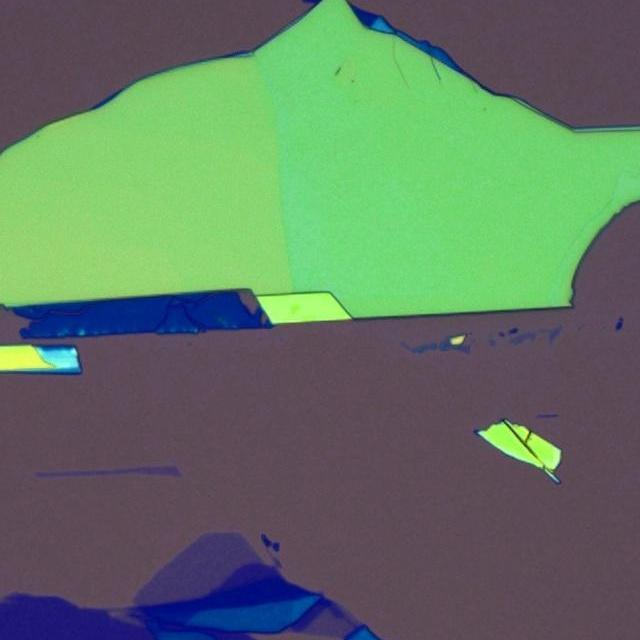monolayer-eWW4: (126, 528, 262, 602), (0, 462, 184, 482), (307, 600, 362, 640)
